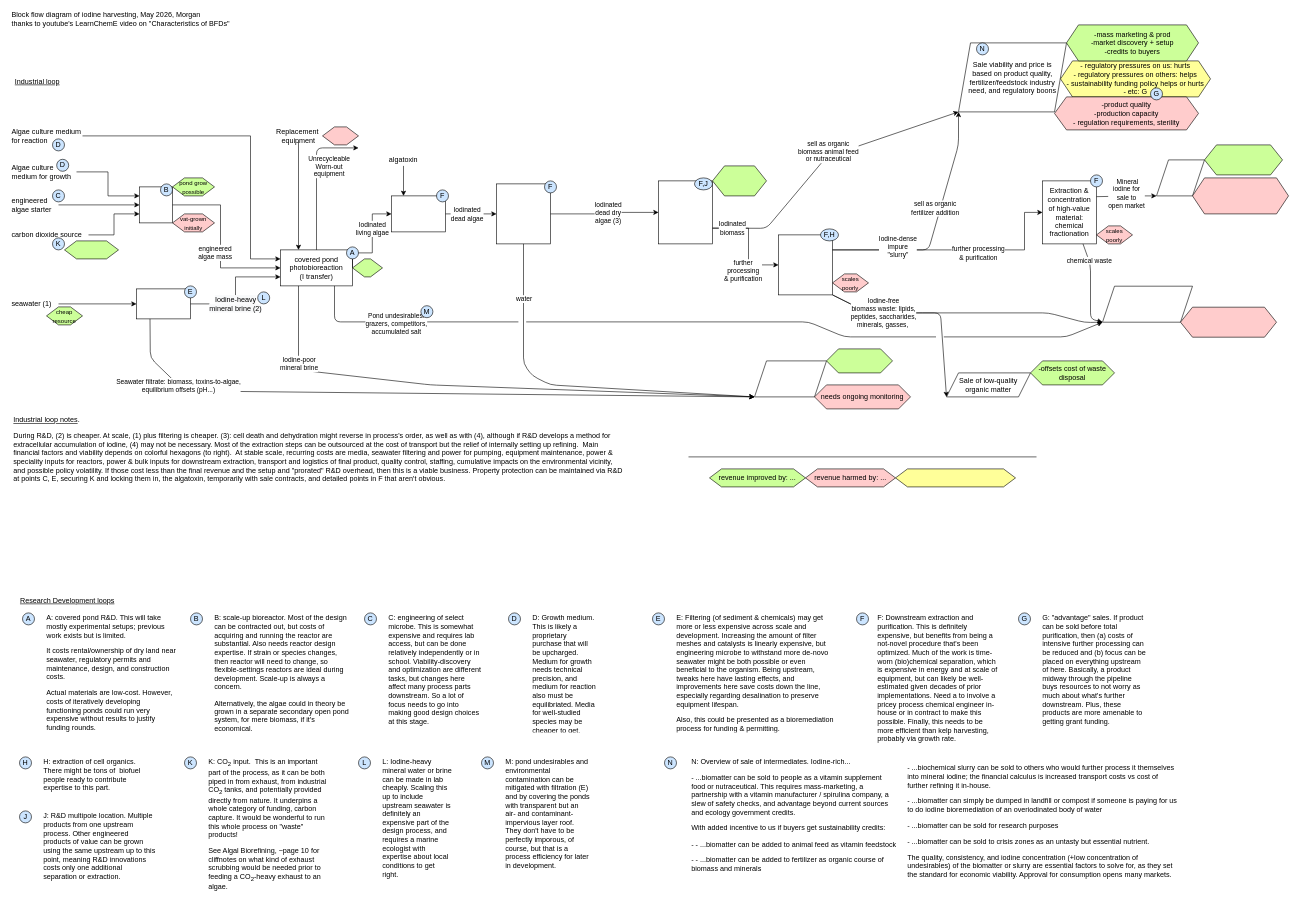
Some shapes in this 1299 by 905 pixel diagram are drawn without their labels. Each missing label, with the box of its shape:
$80/kg ideal revenue: (1156, 159, 1204, 196)
- cheap disposal: (826, 348, 892, 373)
- cost of bulk waste disposal: (1180, 307, 1276, 337)
- free market sale - viable for medical applications: (1204, 144, 1282, 175)
- pushback from market competitors - regulated applications are easy targets: (1192, 177, 1288, 214)
- R&D multipole location: (712, 165, 766, 196)
available & tax credited: (64, 240, 118, 259)
equipment cost: (322, 126, 358, 145)
Extraction & concentration of high-value material: cell lysis (4): (658, 180, 712, 244)
Extraction & concentration of high-value material: dehydration: (496, 183, 550, 244)
Extraction & concentration of high-value material: removal of organics: (778, 234, 832, 295)
Extraction: cell death: (391, 195, 446, 232)
Filtering (of sediment & chemicals): (136, 288, 190, 319)
fluid dump to environment: (754, 360, 826, 397)
Growth: (139, 186, 172, 223)
revenue affected by variable: ...: (895, 468, 1016, 487)
scales well: (352, 258, 382, 277)
waste (recycle or compost if possible): (1102, 286, 1192, 322)
